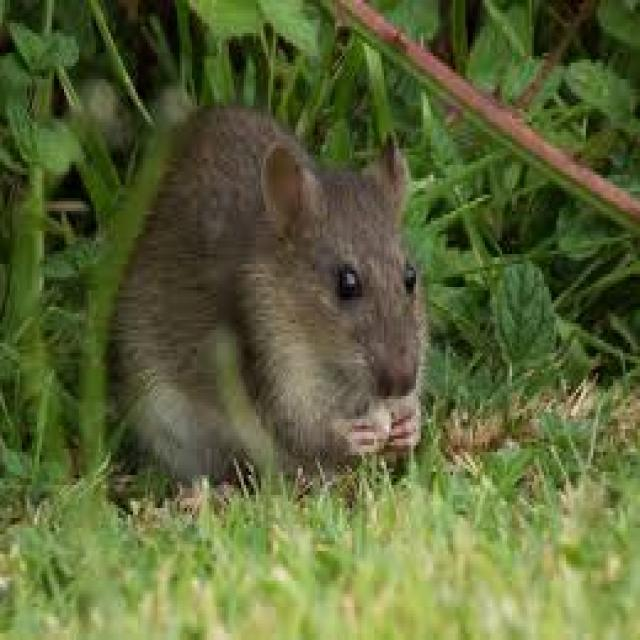rat: (106, 99, 428, 495)
